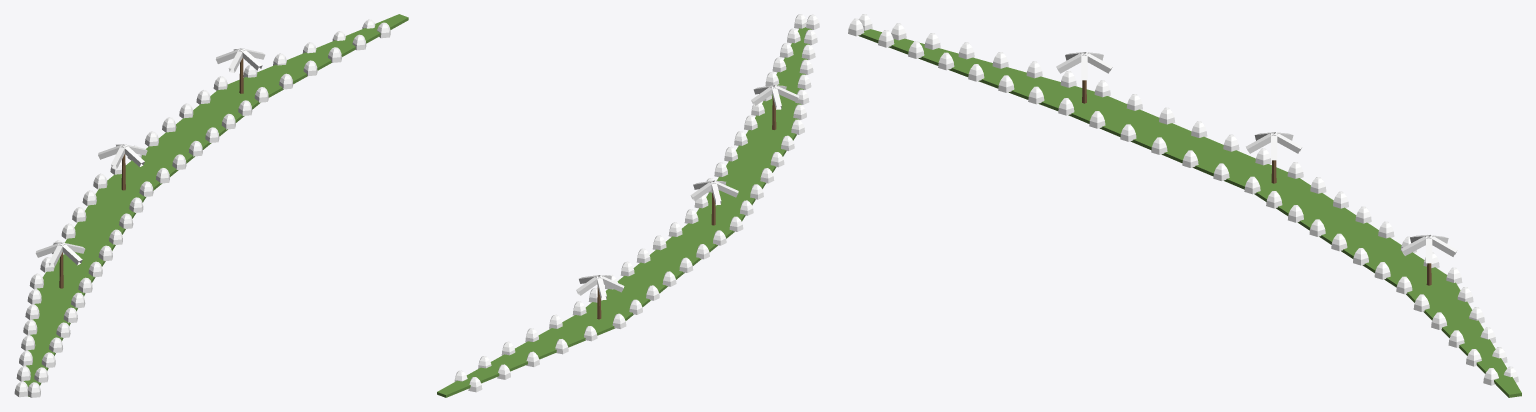
File: pb_bollardisland.glb
The picture shows the model from 3 angles, left to right: view 1: azimuth 30°, elevation 25°; view 2: azimuth 210°, elevation 25°; view 3: azimuth 270°, elevation 25°; orthographic projection. The views are drawn at different scales.
Visible parts, largest first — view 1: pb_bollardisland_lod0; view 2: pb_bollardisland_lod0; view 3: pb_bollardisland_lod0.
Part boxes in pixels (box(x1,y1,x2,y2)): pb_bollardisland_lod0: box(14, 14, 408, 397); pb_bollardisland_lod0: box(437, 14, 819, 397); pb_bollardisland_lod0: box(848, 14, 1521, 397).
Size of what is drawn, in the model's own units: 50.85 by 3.59 by 39.1.
